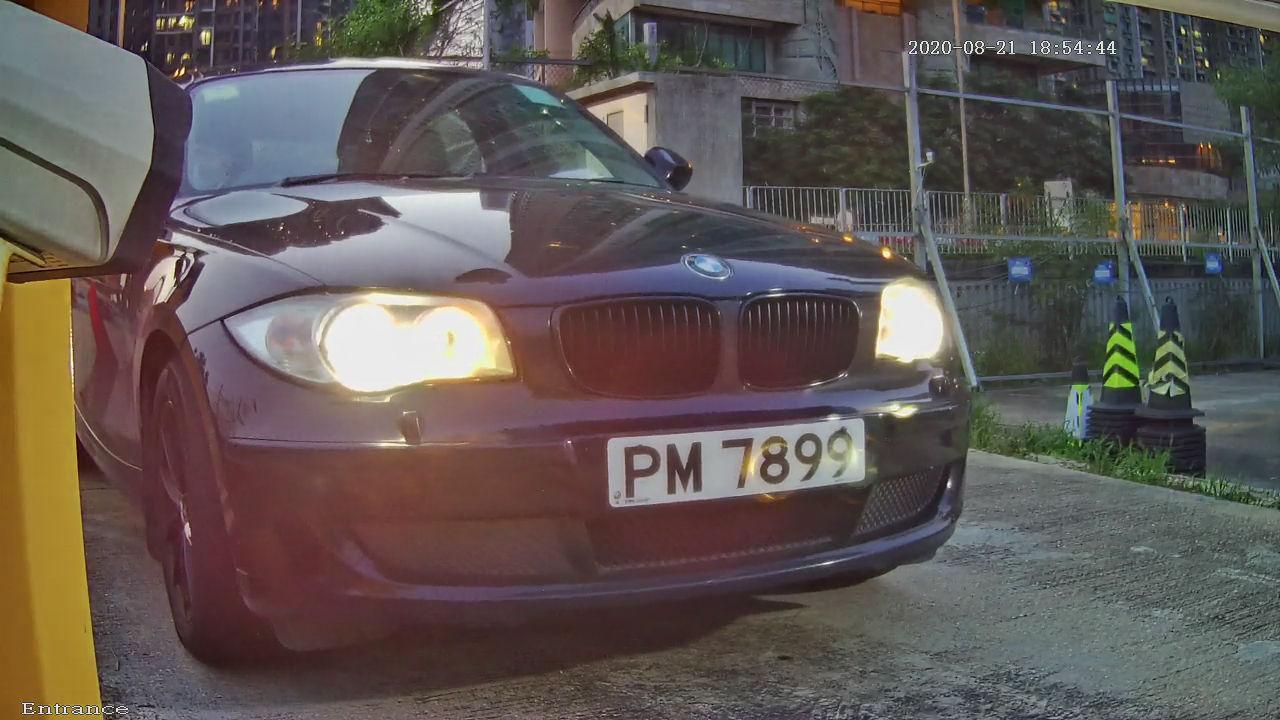Car: (52, 17, 1081, 672)
License Plate: (601, 412, 875, 518)
